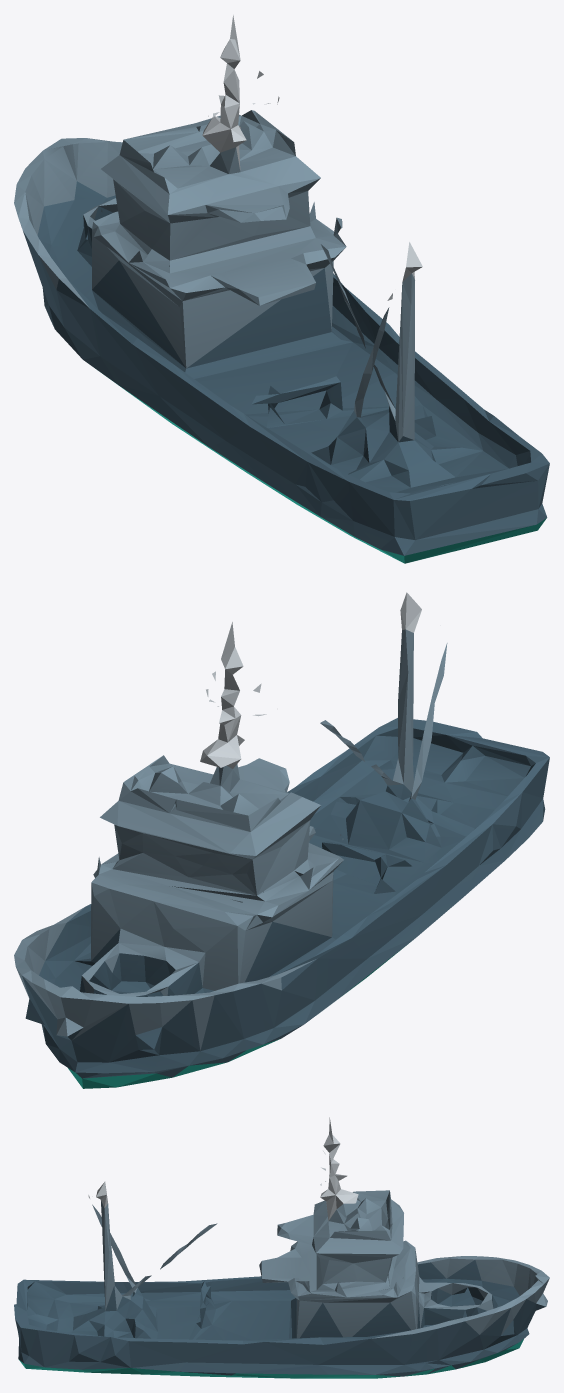
The model's file is fishing.glb.
The picture shows the model from 3 angles, top to bottom: view 1: azimuth 30°, elevation 25°; view 2: azimuth 150°, elevation 25°; view 3: azimuth 270°, elevation 25°; orthographic projection. The views are drawn at different scales.
Visible parts, largest first — view 1: lod0; view 2: lod0; view 3: lod0.
Part boxes in pixels (x1,y1,x2,y2): lod0: (14, 15, 549, 563); lod0: (14, 592, 549, 1088); lod0: (14, 1117, 549, 1378).
Size of what is drawn, in the model's own units: 0.3145 by 0.4723 by 0.9955.
